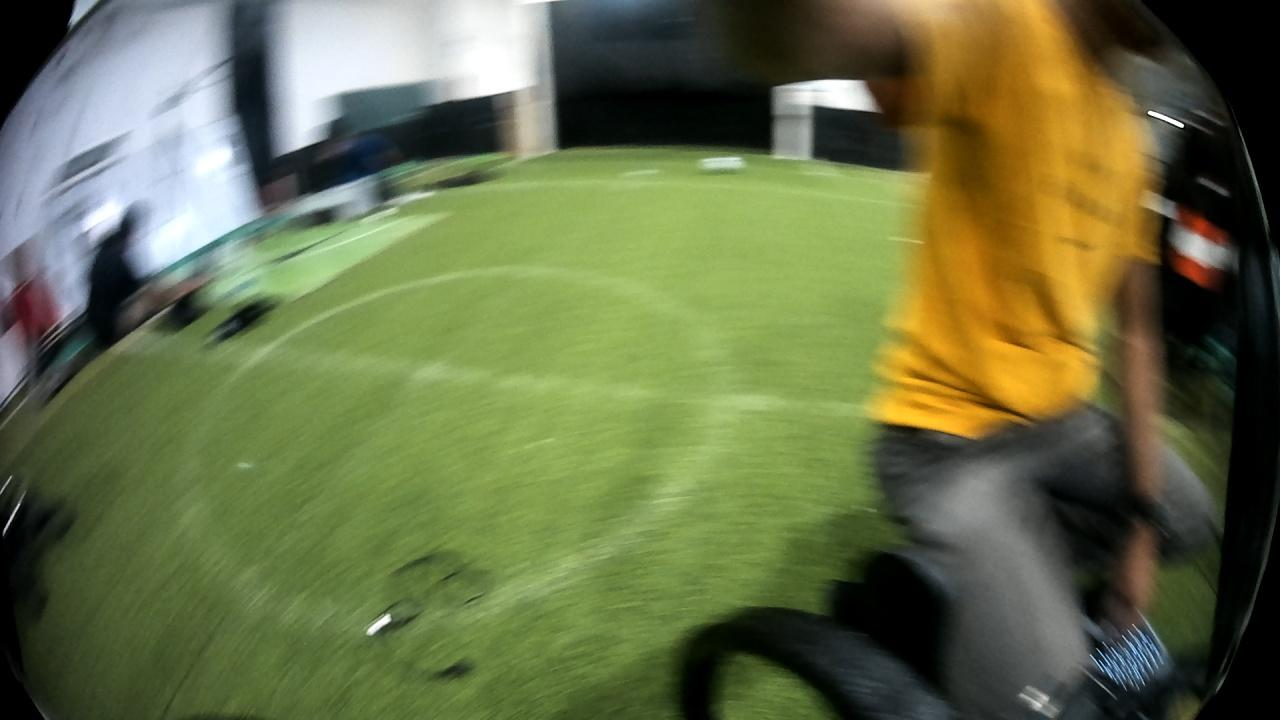ball: (699, 155, 747, 177)
